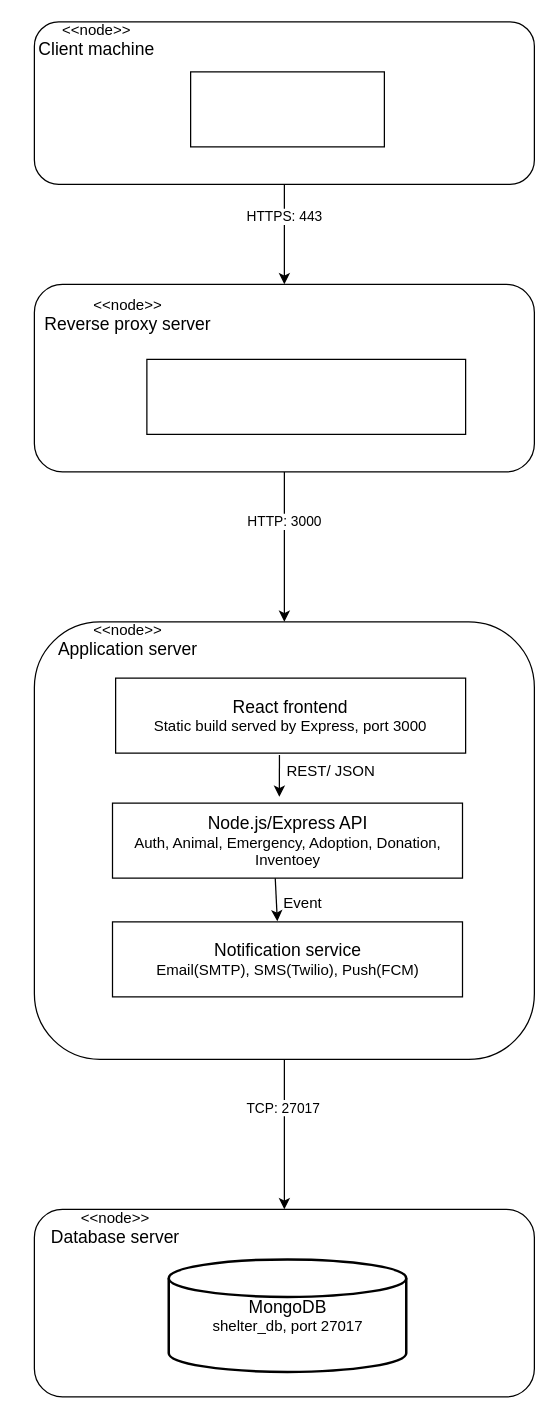
The diagram is 556 pixels wide and 1419 high, and some of its shapes have lost their labels. The centre of each missing label's shape, as x and y in pixels:
Client browser Admin/Volunteer (HTTPS): (x=286, y=109)
Nginx SSL terminal, static assets, routing: (x=306, y=396)
